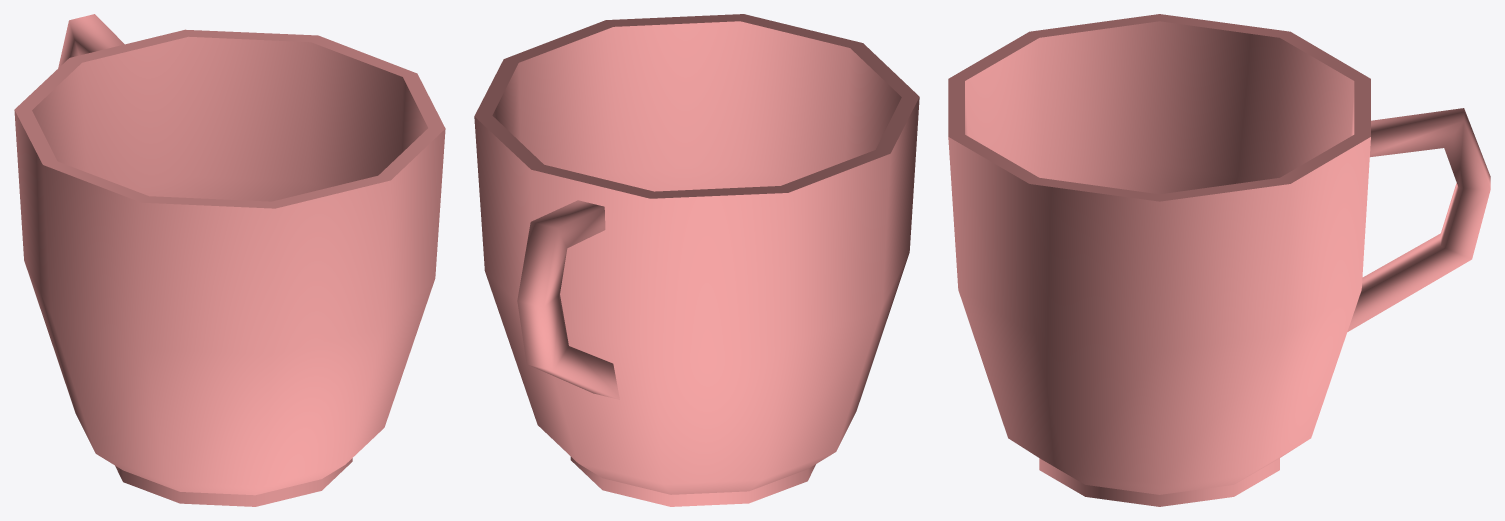
The model's file is TFYK_cup.FBX.
3 renders of one model, left to right at view 1: azimuth 30°, elevation 25°; view 2: azimuth 150°, elevation 25°; view 3: azimuth 270°, elevation 25°, orthographic. The views are drawn at different scales.
Parts seen in each view (by area): view 1: TFYK_cup; view 2: TFYK_cup; view 3: TFYK_cup.
Part boxes in pixels (x1=…): TFYK_cup: x1=14, y1=14, x2=445, y2=506; TFYK_cup: x1=474, y1=14, x2=919, y2=506; TFYK_cup: x1=948, y1=14, x2=1490, y2=506.
Bounding box in the file's own units: 0.0668 × 0.0574 × 0.0816.
